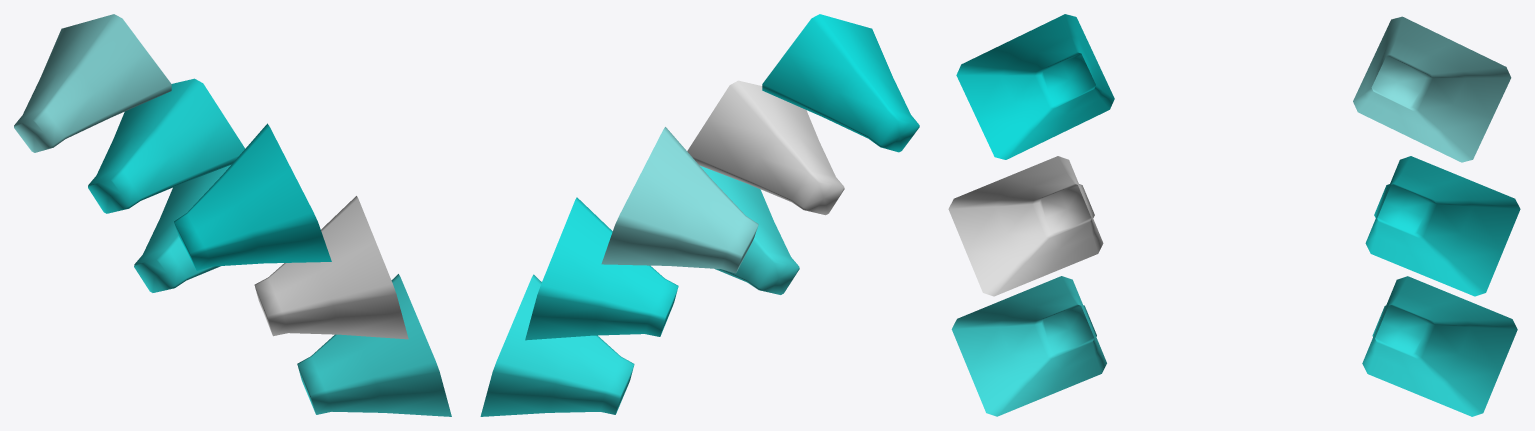
File: SM_Wraith_Jets_Combined.fbx
The picture shows the model from 3 angles, left to right: view 1: azimuth 30°, elevation 25°; view 2: azimuth 150°, elevation 25°; view 3: azimuth 270°, elevation 25°; orthographic projection. The views are drawn at different scales.
Parts seen in each view (by area): view 1: SM_Wraith_Jets_Combined; view 2: SM_Wraith_Jets_Combined; view 3: SM_Wraith_Jets_Combined.
Boxes of the visible parts, <box> form: SM_Wraith_Jets_Combined: <box>14,14,451,416</box>; SM_Wraith_Jets_Combined: <box>480,14,919,416</box>; SM_Wraith_Jets_Combined: <box>948,14,1520,416</box>.
Bounding box in the file's own units: 14.09 × 25.58 × 16.
